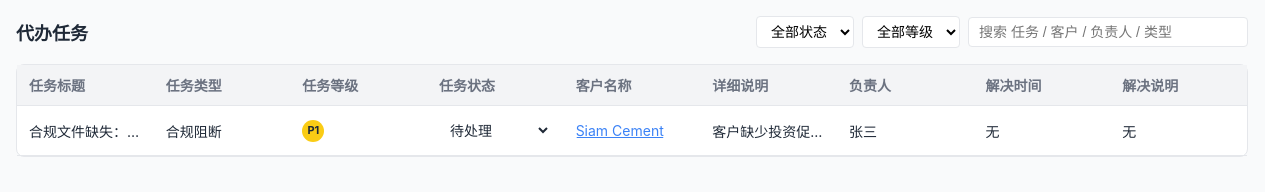
it: TaskList 内联状态修改 › 失败时 select 还原原值 + InlineStatusSelect 自身展示错误
Expected: the button "Siam Cement" is shown, [576,122,664,139]
Select "已解决" in the dropdown with test id "status-select". click: (495, 130)
box: [439,116,552,145]
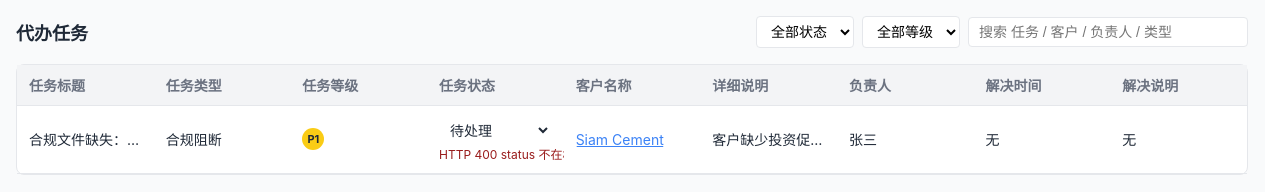
Now the message with test id "status-select-error" shows "不在枚举内", box [439,147,564,162]
